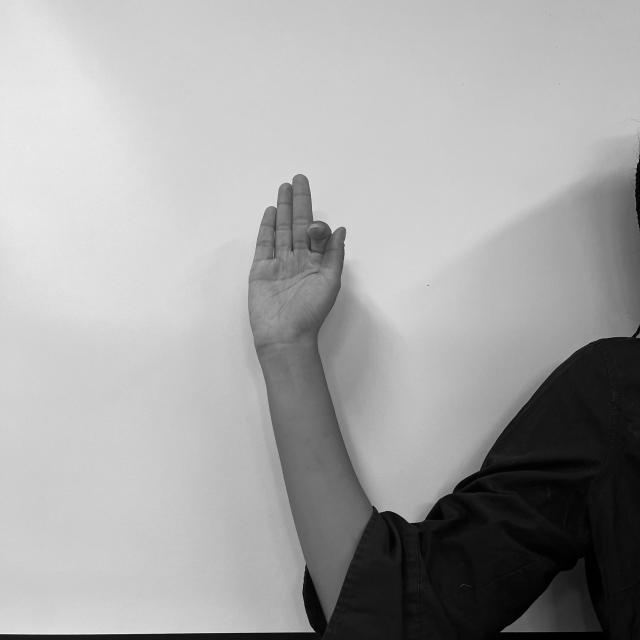Letra F: (244, 170, 349, 352)
